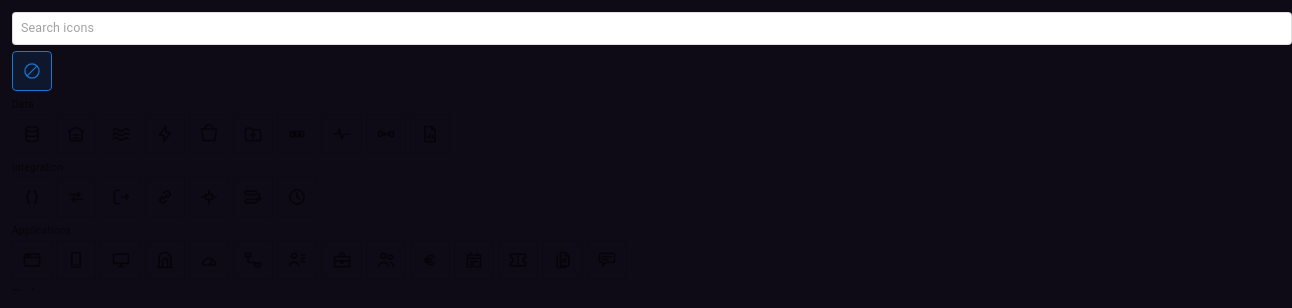
Test: LogoGrid — search › filters the uploaded group too
The image size is (1292, 308).
Type "eigen" into the field labelled "Search icons".
click(652, 28); type("eigen")  # box [21,15,1283,42]
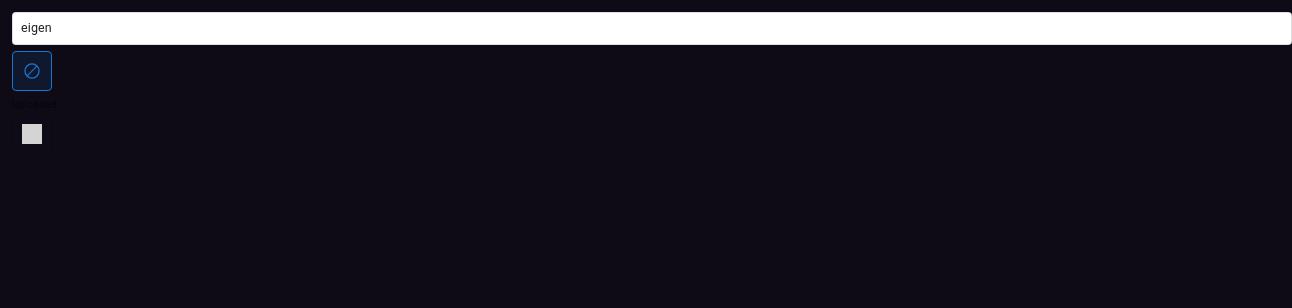
expect the button named "Eigen merk" is shown: met, box [12,114,52,154]
expect the button labelled "Database" is gone: met
